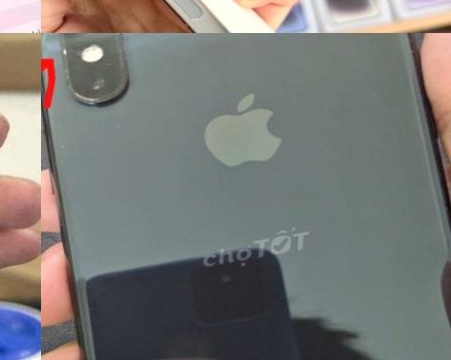scratch: (51, 33, 148, 123), (44, 121, 86, 163), (94, 110, 136, 141), (434, 210, 451, 251)
